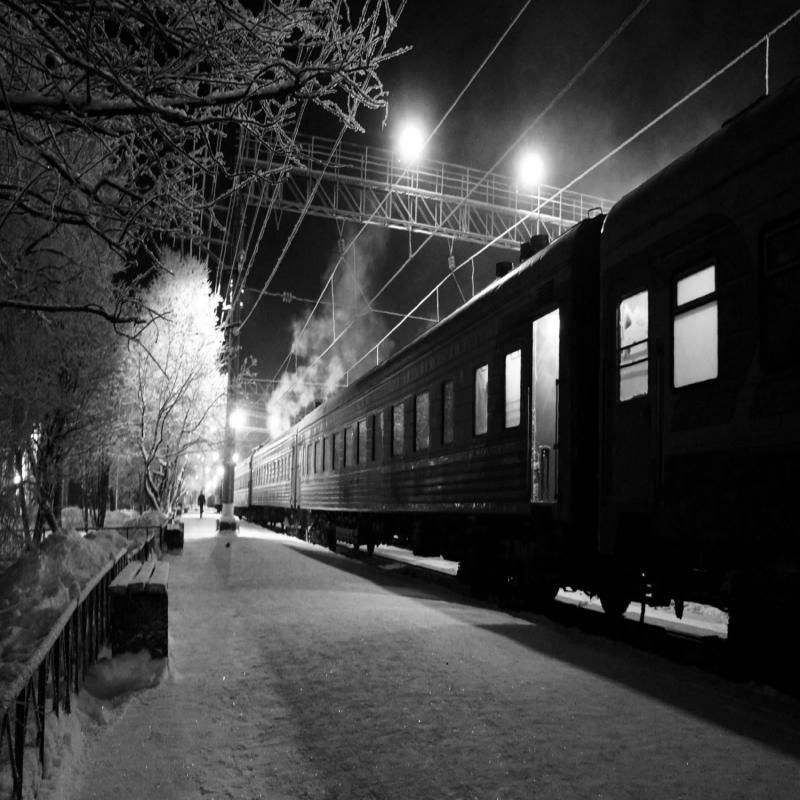train: (291, 162, 633, 572), (249, 412, 311, 545)
